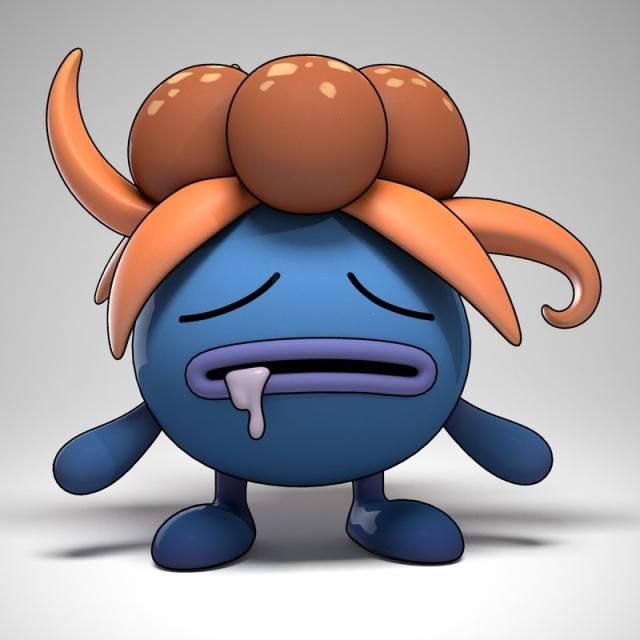Gloom: (109, 54, 477, 576)
